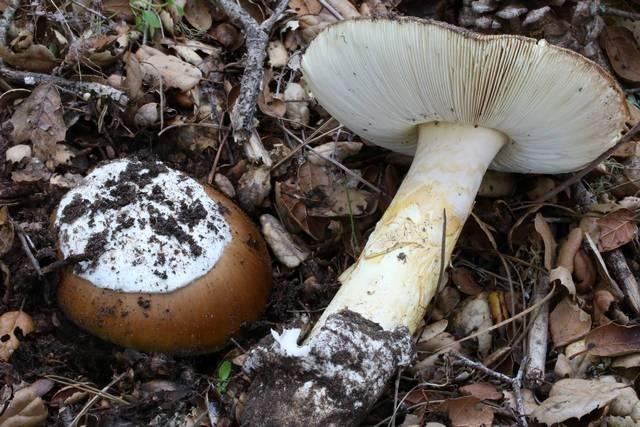edible_mushroom: (294, 14, 631, 349), (51, 152, 273, 356)
